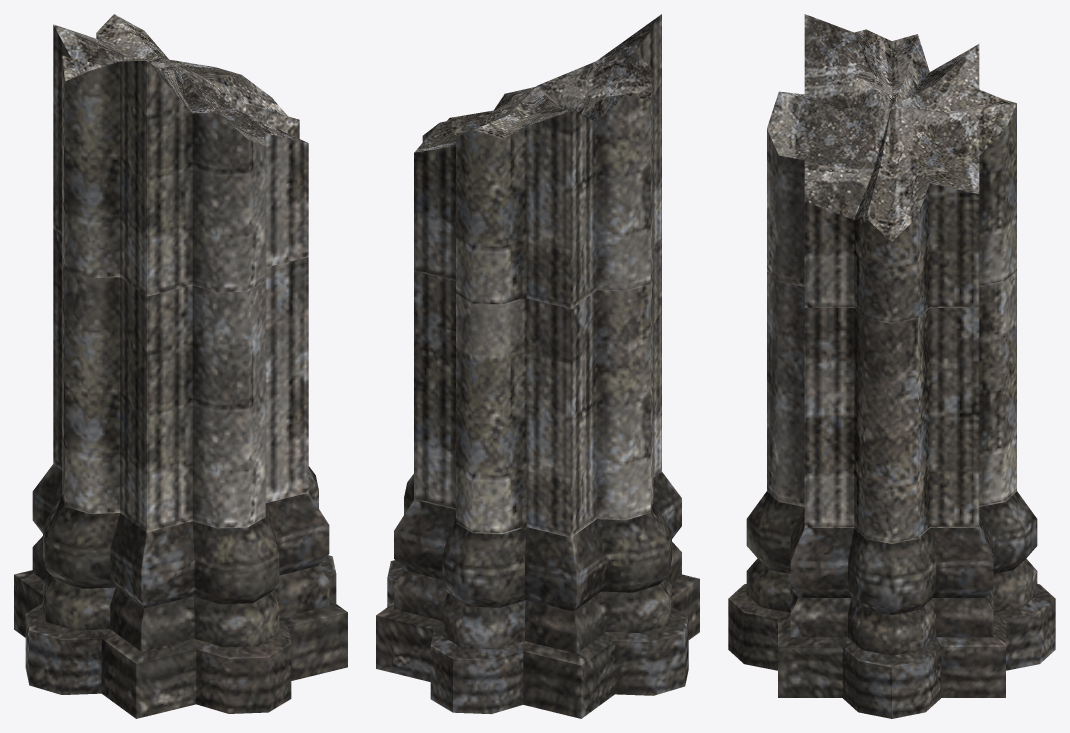
The model's file is column_b_001_crack2.FBX.
3 renders of one model, left to right at view 1: azimuth 30°, elevation 25°; view 2: azimuth 150°, elevation 25°; view 3: azimuth 270°, elevation 25°, orthographic. The views are drawn at different scales.
Parts seen in each view (by area): view 1: ruin_Pillar_02_crach2; view 2: ruin_Pillar_02_crach2; view 3: ruin_Pillar_02_crach2.
Part boxes in pixels (box(x1,y1,x2,y2)): ruin_Pillar_02_crach2: box(14, 14, 347, 718); ruin_Pillar_02_crach2: box(376, 14, 699, 718); ruin_Pillar_02_crach2: box(728, 14, 1055, 718).
Bounding box in the file's own units: 144 × 291 × 144.
